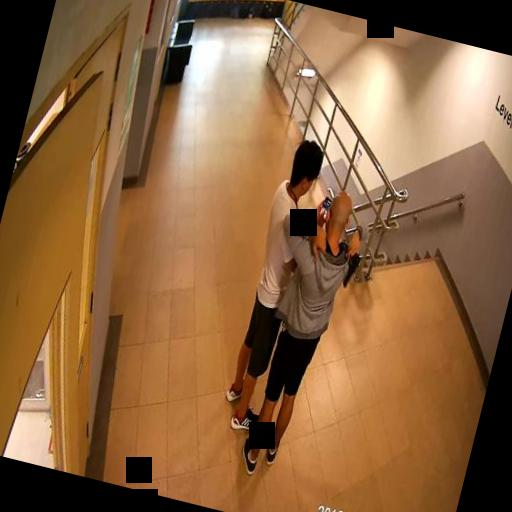Handgun: (338, 242, 362, 288)
